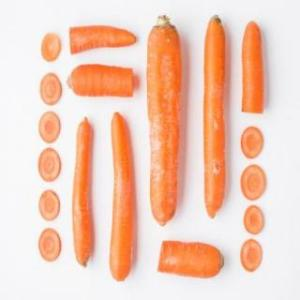carrot: (144, 13, 186, 229), (199, 11, 229, 214), (106, 112, 136, 286), (70, 117, 94, 281), (237, 11, 267, 123), (157, 236, 223, 284), (67, 62, 139, 102), (70, 20, 138, 57)
